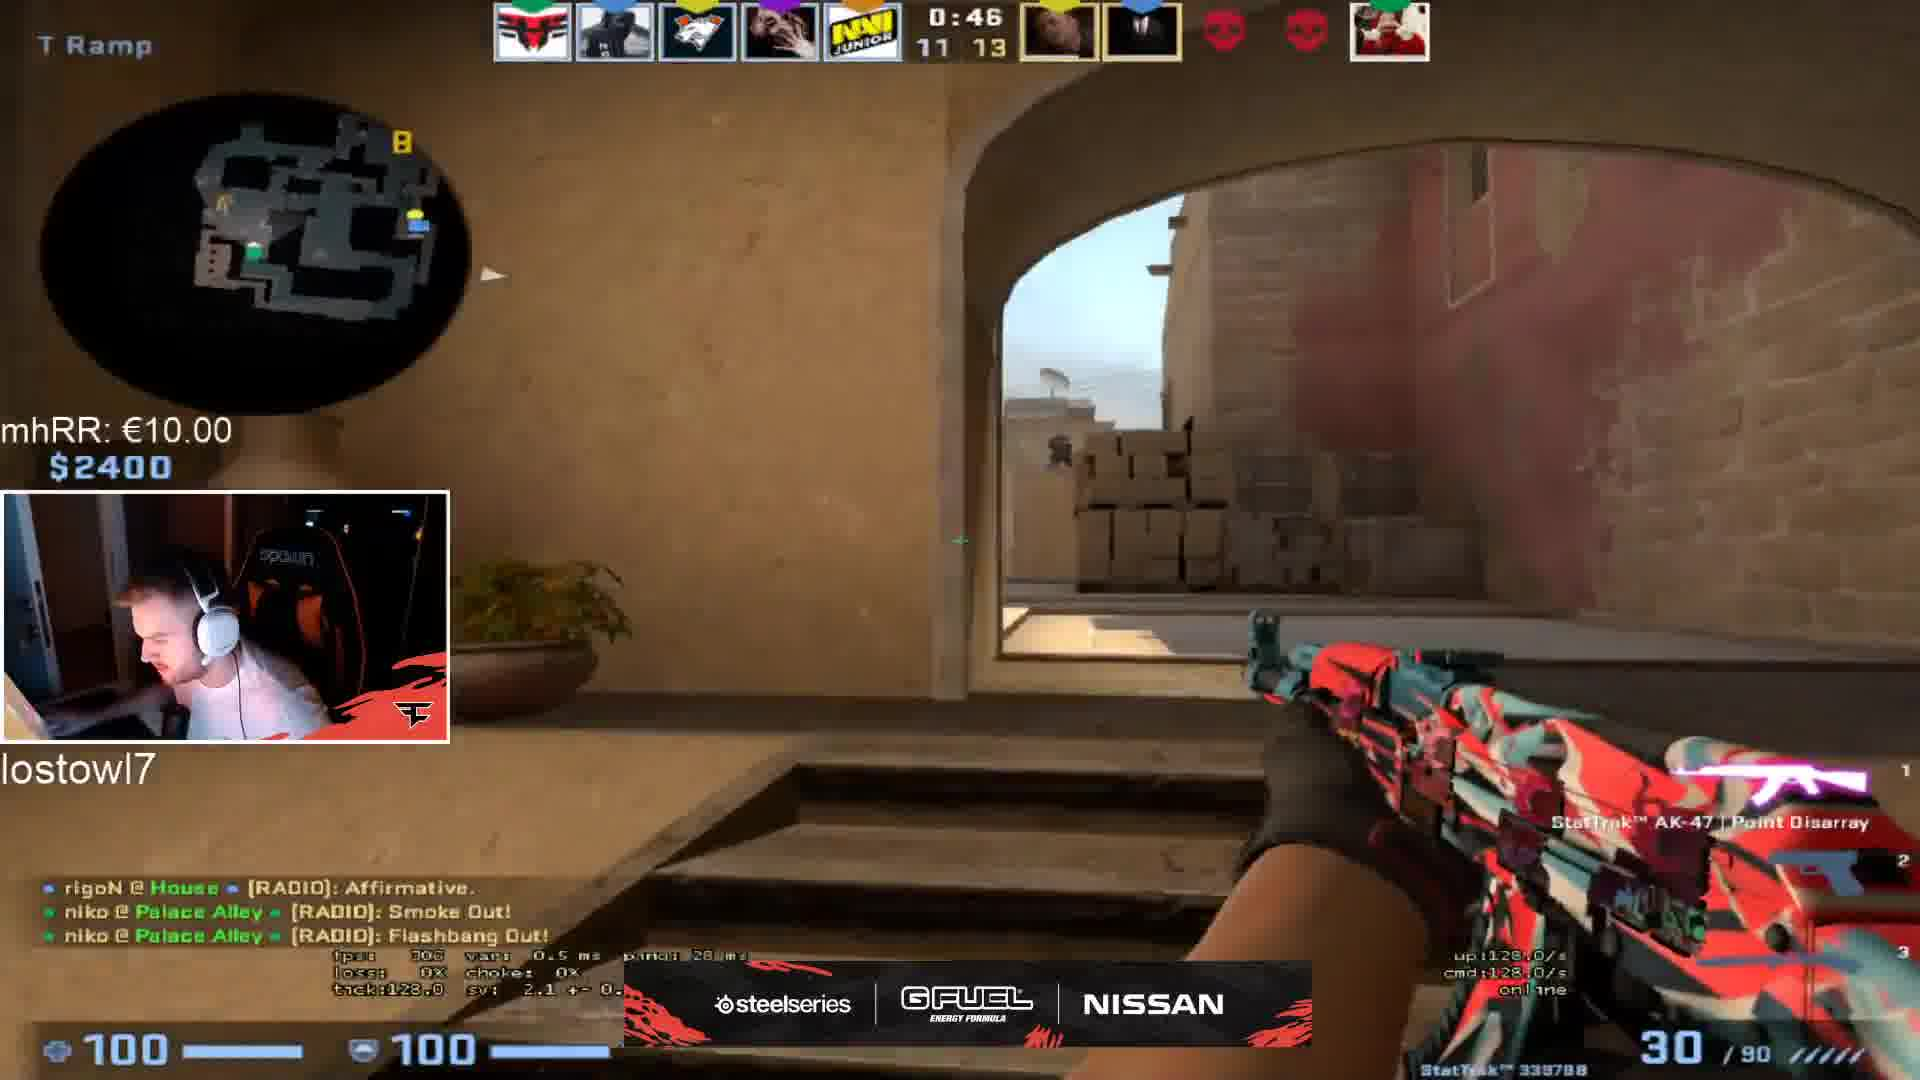enemy: (1044, 433, 1076, 475)
